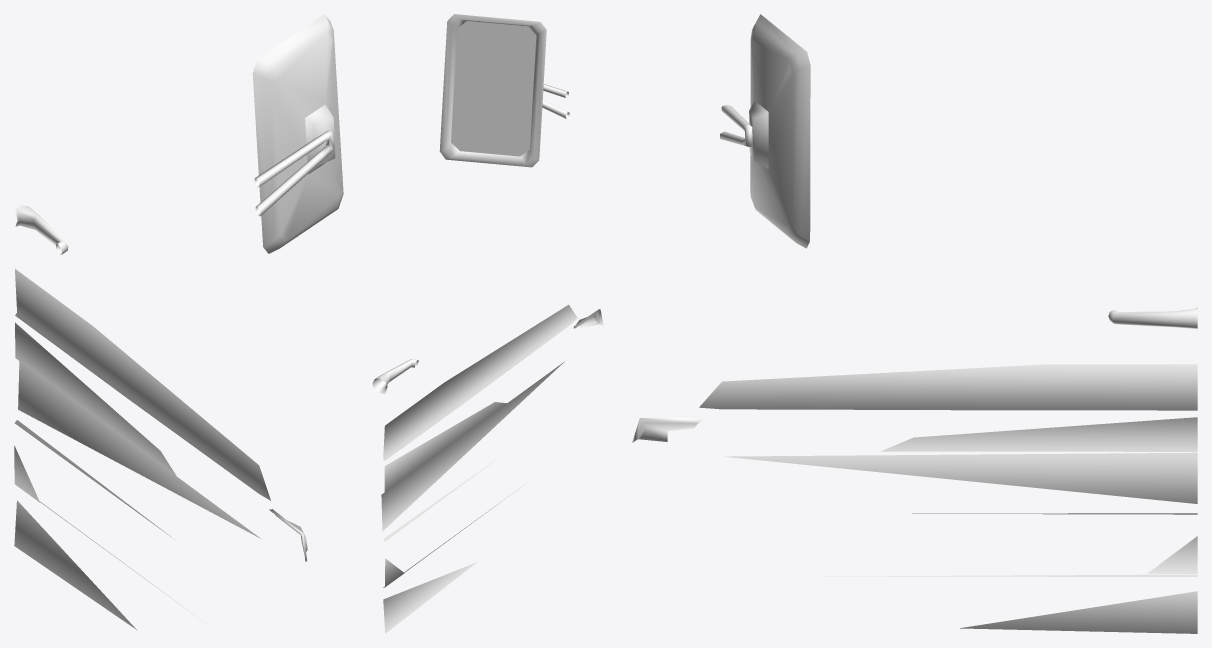
The picture shows the model from 3 angles, left to right: view 1: azimuth 30°, elevation 25°; view 2: azimuth 150°, elevation 25°; view 3: azimuth 270°, elevation 25°; orthographic projection. The views are drawn at different scales.
Size of the model in its own units: 0.2026 by 0.9967 by 0.8057.
Materials: 1 (1 with a texture image).
